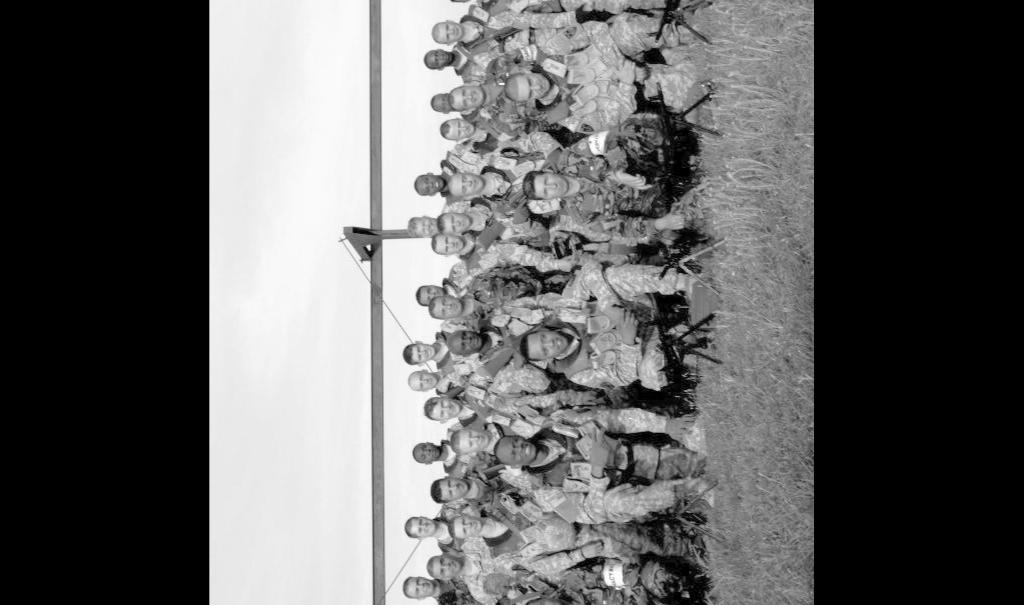gun: (648, 77, 718, 163), (667, 480, 724, 574), (662, 312, 720, 400), (658, 233, 726, 301), (654, 0, 720, 42)
